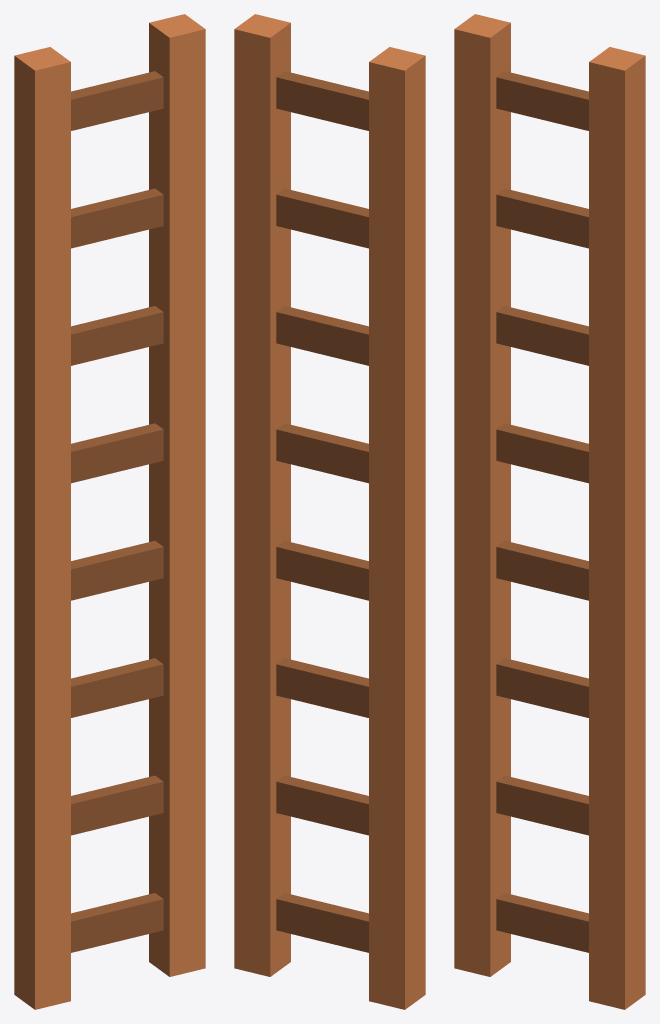
The model's file is ladderLong.obj.
3 views of the same model, side by side, from view 1: azimuth 30°, elevation 25°; view 2: azimuth 150°, elevation 25°; view 3: azimuth 330°, elevation 25° (orthographic).
Parts seen in each view (by area): view 1: ladderLong; view 2: ladderLong; view 3: ladderLong.
Boxes of the visible parts, x1,y1,x2,y2 form: ladderLong: (14,14,205,1009); ladderLong: (234,14,425,1009); ladderLong: (454,14,645,1009).
Size of the model in its own units: 0.38 by 2 by 0.08.
